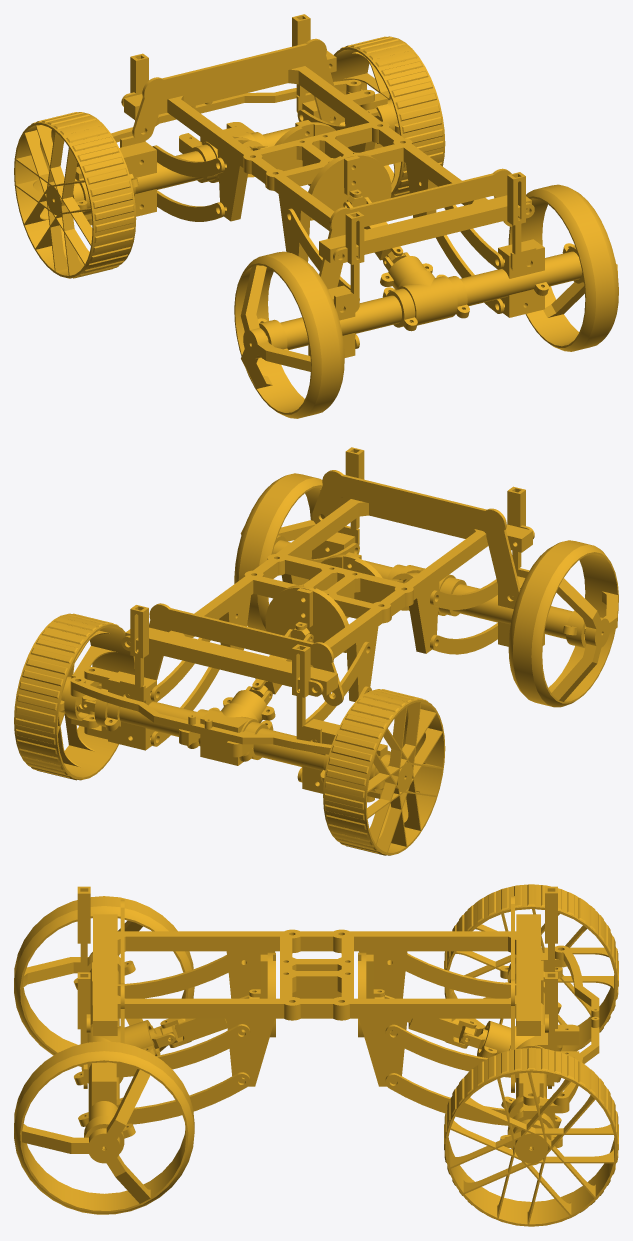
3 renders of one model, top to bottom at view 1: azimuth 30°, elevation 25°; view 2: azimuth 150°, elevation 25°; view 3: azimuth 270°, elevation 25°, orthographic. The views are drawn at different scales.
Parts seen in each view (by area): view 1: main_frame, tire(mirror), tire, housing004, tire(mirror)001, right_tire, lateral_rod, lateral_rod001, housing001, universal_joint_to_moter001, housing003, stearing_link (+13 smaller); view 2: main_frame, tire(mirror), right_tire, tire, housing001, lateral_rod001, tire(mirror)001, lateral_rod, universal_joint_to_moter, stearing_link, housing004, housing (+13 smaller); view 3: main_frame, right_tire, tire(mirror)001, tire(mirror), tire, housing004, housing001, trailing_arm (1)003, trailing_arm (1), trailing_arm002, stearing_link, trailing_arm (1)002 (+14 smaller).
Boxes of the visible parts, x1,y1,x2,y2 form: main_frame: [124, 50, 531, 263]; tire(mirror): [14, 112, 136, 278]; tire: [234, 251, 344, 418]; housing004: [258, 239, 582, 350]; tire(mirror)001: [508, 184, 618, 351]; right_tire: [331, 36, 445, 197]; lateral_rod: [132, 38, 342, 141]; lateral_rod001: [319, 168, 512, 289]; housing001: [119, 89, 374, 185]; universal_joint_to_moter001: [308, 152, 391, 220]; housing003: [262, 248, 583, 358]; stearing_link: [111, 79, 361, 142]; main_frame: [125, 489, 532, 701]; tire(mirror): [323, 689, 445, 855]; right_tire: [14, 613, 134, 780]; tire: [508, 540, 618, 707]; housing001: [84, 667, 339, 779]; lateral_rod001: [312, 470, 520, 608]; tire(mirror)001: [234, 473, 324, 631]; lateral_rod: [144, 603, 343, 706]; universal_joint_to_moter: [265, 585, 348, 652]; stearing_link: [70, 677, 331, 754]; housing004: [272, 532, 585, 630]; housing: [84, 701, 374, 802]; main_frame: [93, 914, 540, 1086]; right_tire: [444, 1047, 618, 1226]; tire(mirror)001: [14, 1041, 194, 1214]; tire(mirror): [444, 884, 618, 1051]; tire: [14, 896, 194, 1066]; housing004: [73, 954, 153, 1137]; housing001: [483, 960, 579, 1125]; trailing_arm (1)003: [127, 1072, 250, 1124]; trailing_arm (1): [405, 953, 516, 998]; trailing_arm002: [117, 955, 228, 998]; stearing_link: [553, 945, 599, 1105]; trailing_arm (1)002: [107, 1024, 250, 1077].
Bounding box in the file's own units: 0.2144 × 0.1099 × 0.2945.
